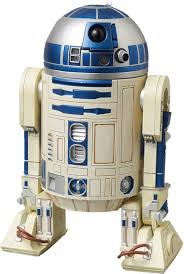r2d2: (1, 2, 183, 273)
